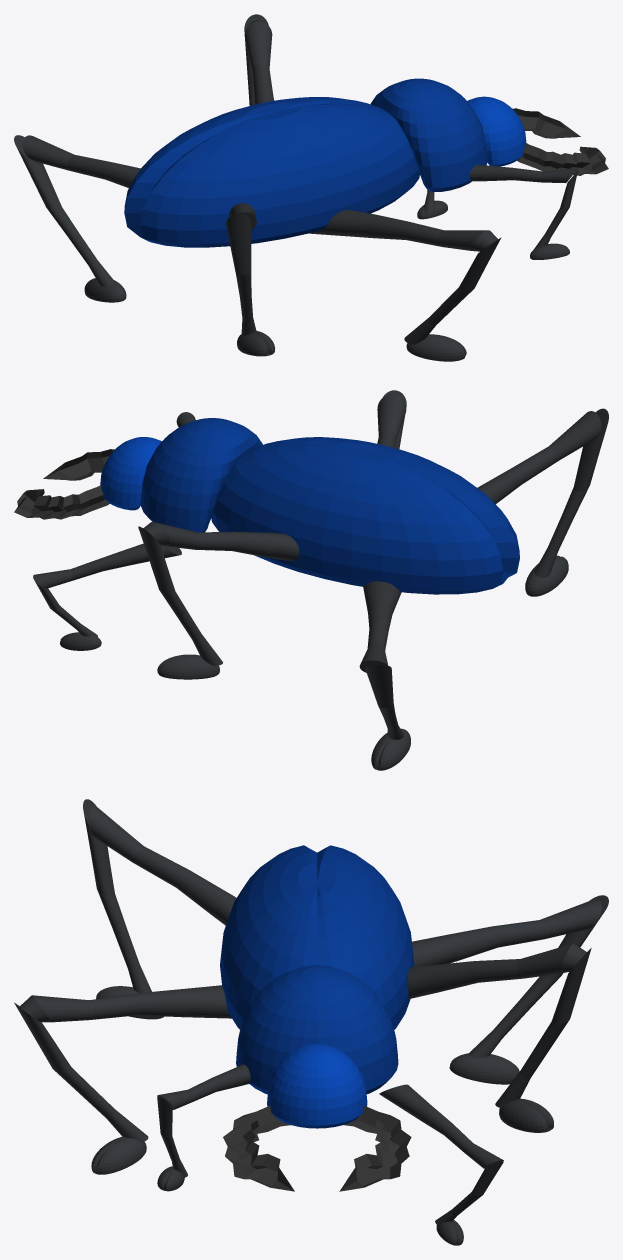
The model's file is Beetke rendered.fbx.
The picture shows the model from 3 angles, top to bottom: view 1: azimuth 30°, elevation 25°; view 2: azimuth 150°, elevation 25°; view 3: azimuth 270°, elevation 25°; orthographic projection. The views are drawn at different scales.
Visible parts, largest first — view 1: BBody, MLegs, BLegs, MBody, FLegs, Pincers, Head; view 2: BBody, BLegs, MBody, MLegs, FLegs, Pincers, Head; view 3: BBody, MLegs, BLegs, MBody, Head, FLegs, Pincers.
Boxes of the visible parts, x1,y1,x2,y2 form: BBody: [124, 97, 419, 247]; MLegs: [244, 14, 501, 361]; BLegs: [14, 135, 275, 356]; MBody: [370, 78, 487, 191]; FLegs: [417, 165, 577, 259]; Pincers: [512, 108, 608, 175]; Head: [467, 96, 526, 166]; BBody: [211, 437, 519, 594]; BLegs: [359, 408, 608, 770]; MBody: [141, 418, 262, 532]; MLegs: [138, 390, 406, 679]; FLegs: [33, 412, 195, 650]; Pincers: [14, 449, 114, 519]; Head: [100, 437, 161, 510]; BBody: [220, 845, 414, 1029]; MLegs: [14, 943, 591, 1174]; BLegs: [83, 799, 608, 1084]; MBody: [236, 965, 398, 1094]; Head: [267, 1043, 367, 1128]; FLegs: [157, 1064, 503, 1245]; Pincers: [223, 1103, 411, 1191].
Size of the model in its own units: 643 by 296 by 611.
